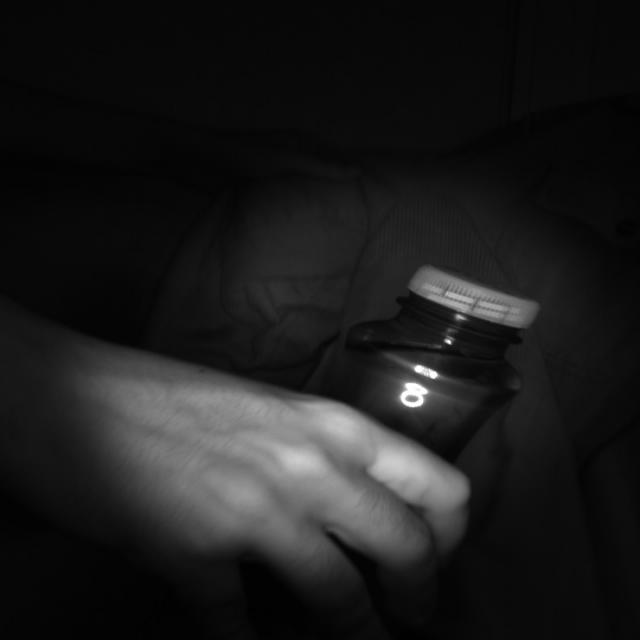Not Good: (406, 260, 542, 343)
